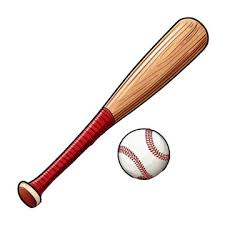baseball bat: (16, 17, 210, 208)
